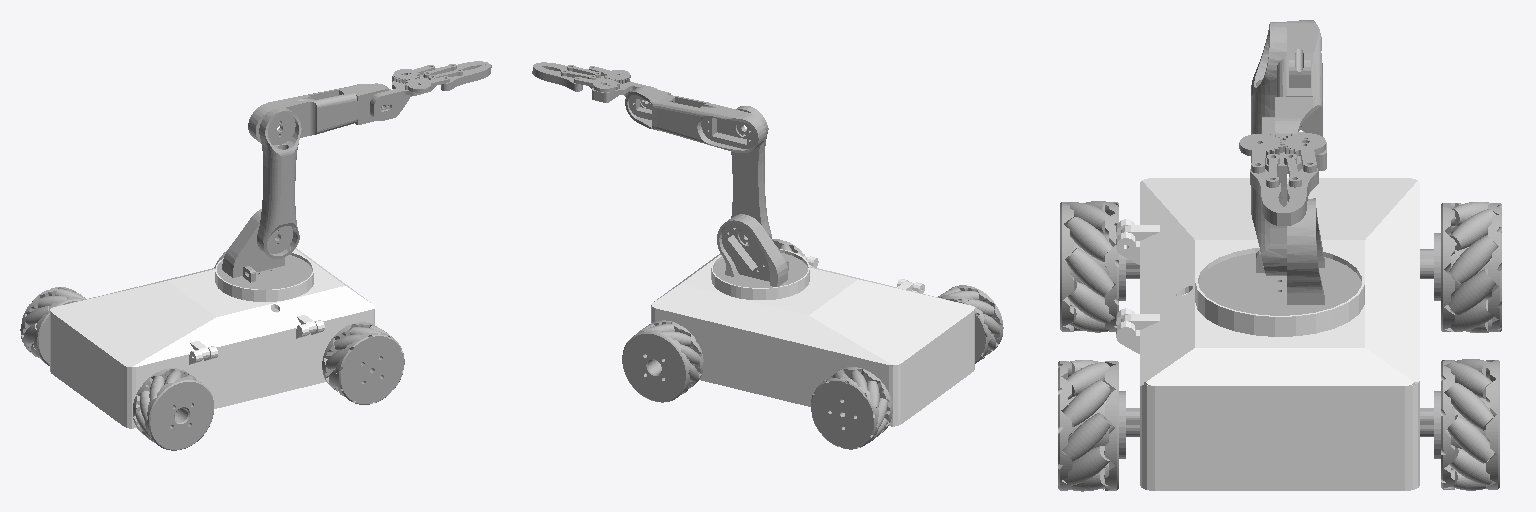
--- What the picture shows (computed from the rendered views, not written in the file) ---
The picture shows the robot from 3 angles, left to right: view 1: azimuth 30°, elevation 25°; view 2: azimuth 150°, elevation 25°; view 3: azimuth 270°, elevation 25°; orthographic projection.
Model car_urdf with 17 links and 16 joints (11 revolute, 4 continuous, 1 fixed), rooted at base_footprint, posed all joints at 0.
Visible links, largest first — view 1: base_link, Shoulder, Rueda_derecha_del_link, Rueda_derecha_tras_link, Waist, Elbow, Rueda_izquierda_tras_link, Wrist_pitch, Wrist_Roll, Right_arm; view 2: base_link, Rueda_izquierda_tras_link, Rueda_izquierda_del_link, Waist, Elbow, Shoulder, Rueda_derecha_tras_link, Wrist_Roll, Left_arm, Wrist_pitch; view 3: base_link, Waist, Rueda_derecha_del_link, Rueda_izquierda_tras_link, Rueda_izquierda_del_link, Rueda_derecha_tras_link, Shoulder, Elbow, Wrist_Roll, Left_gear, Rigth_gear, Left_arm (+2 smaller).
Link boxes in pixels (x1,y1,x2,y2): base_link: [50, 248, 376, 428]; Shoulder: [257, 107, 301, 258]; Rueda_derecha_del_link: [322, 322, 404, 404]; Rueda_derecha_tras_link: [133, 368, 213, 450]; Waist: [217, 209, 312, 289]; Elbow: [248, 87, 357, 142]; Rueda_izquierda_tras_link: [20, 287, 85, 365]; Wrist_pitch: [370, 74, 435, 120]; Wrist_Roll: [347, 83, 390, 124]; Right_arm: [441, 64, 491, 90]; base_link: [651, 249, 974, 426]; Rueda_izquierda_tras_link: [811, 367, 892, 449]; Rueda_izquierda_del_link: [622, 320, 703, 402]; Waist: [713, 214, 807, 287]; Elbow: [657, 95, 765, 152]; Shoulder: [731, 106, 771, 244]; Rueda_derecha_tras_link: [938, 285, 1003, 363]; Wrist_Roll: [625, 86, 670, 130]; Left_arm: [532, 64, 582, 91]; Wrist_pitch: [589, 76, 657, 107]; base_link: [1116, 178, 1419, 490]; Waist: [1198, 198, 1361, 315]; Rueda_derecha_del_link: [1058, 360, 1139, 491]; Rueda_izquierda_tras_link: [1420, 202, 1501, 332]; Rueda_izquierda_del_link: [1420, 359, 1499, 490]; Rueda_derecha_tras_link: [1060, 201, 1139, 332]; Shoulder: [1251, 22, 1286, 275]; Elbow: [1277, 20, 1322, 132]; Wrist_Roll: [1275, 97, 1322, 136]; Left_gear: [1281, 131, 1325, 172]; Rigth_gear: [1239, 132, 1284, 173]; Left_arm: [1284, 168, 1318, 225].
Size in the robot's own frame: 0.4725 by 0.2613 by 0.2836 metres.
Meshes: 16 distinct files referenced, 16 mesh visuals loaded (16 binary STL).

URDF robot description (car_urdf):
<?xml version="1.0" encoding="utf-8"?>
<!-- This URDF was automatically created by SolidWorks to URDF Exporter! Originally created by Stephen Brawner ([email redacted]) 
     Commit Version: 1.5.1-0-g916b5db  Build Version: 1.5.7152.31018
     For more information, please see http://wiki.ros.org/sw_urdf_exporter -->
<robot
  name="car_urdf">
  
  <!-- <link name="world"/>
  <joint name="base_joint" type="fixed">
  	<parent link="world"/>
  	<child link="base_link"/>
  	<origin rpy="0 0 0" xyz="0.0 0.0 0.0"/>
	</joint>-->

  <!-- root link, on the ground just below the model origin -->
  <link name="base_footprint">
   <visual>
      <origin xyz="0 0 0" rpy="0 0 0" />
      <geometry>
        <box size="0.001 0.001 0.001" />
      </geometry>
    </visual>

  </link>
  <joint name="base_link_joint" type="fixed">
    <origin xyz="0.0 0.0 0.0" rpy="0 0 0" />
    <parent link="base_footprint"/>
    <child link="base_link" />
  </joint>

  <link
    name="base_link">
    <inertial>
      <origin
        xyz="0.0022297881096239 -0.000937529913435931 0.0375283758051956"
        rpy="0 0 0" />
      <mass
        value="20" />
      <inertia
        ixx="0.00260667894961256"
        ixy="-2.06641366246688E-01"
        ixz="-4.51471929494189E-01"
        iyy="0.00634991698764481"
        iyz="1.79850575748149E-01"
        izz="0.00843754522990492" />
    </inertial>
    <visual>
      <origin
        xyz="0 0 0"
        rpy="0 0 0" />
      <geometry>
        <mesh
          filename="package://car_urdf/meshes/base_link.STL" />
      </geometry>
      <material
        name="">
        <color
          rgba="1 1 1 1" />
      </material>
    </visual>
    <collision>
      <origin
        xyz="0 0 0"
        rpy="0 0 0" />
      <geometry>
        <mesh
          filename="package://car_urdf/meshes/base_link.STL" />
      </geometry>
    </collision>
  </link>
  <link
    name="Rueda_izquierda_del_link">
    <inertial>
      <origin
        xyz="1.72244410720085E-05 -3.08770137943844E-05 -0.0187646103151318"
        rpy="0 0 0" />
      <mass
        value="5" />
      <inertia
        ixx="2.81559000731179E-01"
        ixy="0"
        ixz="0"
        iyy="2.81431703190276E-01"
        iyz="0"
        izz="4.55341024054628E-01" />
    </inertial>
    <visual>
      <origin
        xyz="0 0 0"
        rpy="0 0 0" />
      <geometry>
        <mesh
          filename="package://car_urdf/meshes/Rueda_izquierda_del_link.STL" />
      </geometry>
      <material
        name="">
        <color
          rgba="0.752941176470588 0.752941176470588 0.752941176470588 1" />
      </material>
    </visual>
    <collision>
      <origin
        xyz="0 0 0"
        rpy="0 0 0" />
      <geometry>
        <mesh
          filename="package://car_urdf/meshes/Rueda_izquierda_del_link.STL" />
      </geometry>
    </collision>
  </link>
  <joint
    name="Rueda_izquierda_del_joint"
    type="continuous">
    <origin
      xyz="0.11005 0.1295 0.026733"
      rpy="-1.5708 0 0" />
    <parent
      link="base_link" />
    <child
      link="Rueda_izquierda_del_link" />
    <axis
      xyz="0 0 1" />
    <limit
      effort="100"
      velocity="100" />
    <joint_properties damping="0.0" friction="0.0"/>
  </joint>
  <link
    name="Rueda_derecha_del_link">
    <inertial>
      <origin
        xyz="-2.01928690935771E-05 -3.56300614159852E-05 0.0187939302958306"
        rpy="0 0 0" />
      <mass
        value="5" />
      <inertia
        ixx="2.82629959834746E-01"
        ixy="0"
        ixz="0"
        iyy="2.82506382127236E-01"
        iyz="0"
        izz="4.55976190910373E-01" />
    </inertial>
    <visual>
      <origin
        xyz="0 0 0"
        rpy="0 0 0" />
      <geometry>
        <mesh
          filename="package://car_urdf/meshes/Rueda_derecha_del_link.STL" />
      </geometry>
      <material
        name="">
        <color
          rgba="0.752941176470588 0.752941176470588 0.752941176470588 1" />
      </material>
    </visual>
    <collision>
      <origin
        xyz="0 0 0"
        rpy="0 0 0" />
      <geometry>
        <mesh
          filename="package://car_urdf/meshes/Rueda_derecha_del_link.STL" />
      </geometry>
    </collision>
  </link>
  <joint
    name="Rueda_derecha_del_joint"
    type="continuous">
    <origin
      xyz="0.1104 -0.13066 0.02641"
      rpy="-1.5708 0 0" />
    <parent
      link="base_link" />
    <child
      link="Rueda_derecha_del_link" />
    <axis
      xyz="0 0 1" />
    <limit
      effort="100"
      velocity="100" />
    <joint_properties damping="0.0" friction="0.0"/>
  </joint>
  <link
    name="Rueda_izquierda_tras_link">
    <inertial>
      <origin
        xyz="-1.16739382335779E-05 -3.9255221370698E-05 -0.0187939302958305"
        rpy="0 0 0" />
      <mass
        value="5" />
      <inertia
        ixx="2.82571265705397E-01"
        ixy="0"
        ixz="0"
        iyy="2.82565076256586E-01"
        iyz="0"
        izz="4.55976190910372E-01" />
    </inertial>
    <visual>
      <origin
        xyz="0 0 0"
        rpy="0 0 0" />
      <geometry>
        <mesh
          filename="package://car_urdf/meshes/Rueda_izquierda_tras_link.STL" />
      </geometry>
      <material
        name="">
        <color
          rgba="0.752941176470588 0.752941176470588 0.752941176470588 1" />
      </material>
    </visual>
    <collision>
      <origin
        xyz="0 0 0"
        rpy="0 0 0" />
      <geometry>
        <mesh
          filename="package://car_urdf/meshes/Rueda_izquierda_tras_link.STL" />
      </geometry>
    </collision>
  </link>
  <joint
    name="Rueda_izquierda_tras_joint"
    type="continuous">
    <origin
      xyz="-0.11021 0.13066 0.026148"
      rpy="-1.5708 0 0" />
    <parent
      link="base_link" />
    <child
      link="Rueda_izquierda_tras_link" />
    <axis
      xyz="0 0 1" />
    <limit
      effort="100"
      velocity="100" />
    <joint_properties damping="0.0" friction="0.0"/>
  </joint>
  <link
    name="Rueda_derecha_tras_link">
    <inertial>
      <origin
        xyz="-1.26738293365902E-05 -3.30067478108674E-05 0.0187646103151317"
        rpy="0 0 0" />
      <mass
        value="5" />
      <inertia
        ixx="2.81556321484253E-01"
        ixy="0"
        ixz="0"
        iyy="2.81434382437204E-01"
        iyz="0"
        izz="4.5534102405463E-01" />
    </inertial>
    <visual>
      <origin
        xyz="0 0 0"
        rpy="0 0 0" />
      <geometry>
        <mesh
          filename="package://car_urdf/meshes/Rueda_derecha_tras_link.STL" />
      </geometry>
      <material
        name="">
        <color
          rgba="0.752941176470588 0.752941176470588 0.752941176470588 1" />
      </material>
    </visual>
    <collision>
      <origin
        xyz="0 0 0"
        rpy="0 0 0" />
      <geometry>
        <mesh
          filename="package://car_urdf/meshes/Rueda_derecha_tras_link.STL" />
      </geometry>
    </collision>
  </link>
  <joint
    name="Rueda_derecha_tras_joint"
    type="continuous">
    <origin
      xyz="-0.11002 -0.1295 0.026739"
      rpy="-1.5708 0 0" />
    <parent
      link="base_link" />
    <child
      link="Rueda_derecha_tras_link" />
    <axis
      xyz="0 0 1" />
    <limit
      effort="100"
      velocity="100" />
    <joint_properties damping="0.0" friction="0.0"/>
  </joint>
  <link
    name="Waist">
    <inertial>
      <origin
        xyz="-0.00643461174884599 0.00137211572604215 0.0172891660034206"
        rpy="0 0 0" />
      <mass
        value="4" />
      <inertia
        ixx="5.81345017333013E-01"
        ixy="0"
        ixz="0"
        iyy="4.50193669493472E-01"
        iyz="0"
        izz="5.46761452959707E-01" />
    </inertial>
    <visual>
      <origin
        xyz="0 0 0"
        rpy="0 0 0" />
      <geometry>
        <mesh
          filename="package://car_urdf/meshes/Waist.STL" />
      </geometry>
      <material
        name="">
        <color
          rgba="0.749019607843137 0.749019607843137 0.749019607843137 1" />
      </material>
    </visual>
    <collision>
      <origin
        xyz="0 0 0"
        rpy="0 0 0" />
      <geometry>
        <mesh
          filename="package://car_urdf/meshes/Waist.STL" />
      </geometry>
    </collision>
  </link>
  <joint
    name="Waist_joint"
    type="revolute">
    <origin
      xyz="0.060849 0 0.08987"
      rpy="0 0 -1.5708" />
    <parent
      link="base_link" />
    <child
      link="Waist" />
    <axis
      xyz="0 0 1" />
    <limit
      lower="-3.1"
      upper="3.1"
      effort="2"
      velocity="2" />
  </joint>
  <link
    name="Shoulder">
    <inertial>
      <origin
        xyz="0.00139575313800894 0.0591884192827652 0.00178931205327423"
        rpy="0 0 0" />
      <mass
        value="4" />
      <inertia
        ixx="0.000106965780568813"
        ixy="0"
        ixz="0"
        iyy="9.15502968245258E-01"
        iyz="0"
        izz="0.000111828463740695" />
    </inertial>
    <visual>
      <origin
        xyz="0 0 0"
        rpy="0 0 0" />
      <geometry>
        <mesh
          filename="package://car_urdf/meshes/Shoulder.STL" />
      </geometry>
      <material
        name="">
        <color
          rgba="0.749019607843137 0.749019607843137 0.749019607843137 1" />
      </material>
    </visual>
    <collision>
      <origin
        xyz="0 0 0"
        rpy="0 0 0" />
      <geometry>
        <mesh
          filename="package://car_urdf/meshes/Shoulder.STL" />
      </geometry>
    </collision>
  </link>
  <joint
    name="Shoulder_joint"
    type="revolute">
    <origin
      xyz="0.002 0.013919 0.040276"
      rpy="1.5708 0 1.5708" />
    <parent
      link="Waist" />
    <child
      link="Shoulder" />
    <axis
      xyz="0 0 1" />
    <limit
      lower="-1.6"
      upper="1.8"
      effort="2"
      velocity="2" />
  </joint>
  <link
    name="Elbow">
    <inertial>
      <origin
        xyz="0.0392853132336417 -2.78813481829343E-05 0.00540885828941906"
        rpy="0 0 0" />
      <mass
        value="2" />
      <inertia
        ixx="9.28666202376571E-01"
        ixy="0"
        ixz="0"
        iyy="5.46008100377437E-01"
        iyz="0"
        izz="5.81488341772465E-01" />
    </inertial>
    <visual>
      <origin
        xyz="0 0 0"
        rpy="0 0 0" />
      <geometry>
        <mesh
          filename="package://car_urdf/meshes/Elbow.STL" />
      </geometry>
      <material
        name="">
        <color
          rgba="0.749019607843137 0.749019607843137 0.749019607843137 1" />
      </material>
    </visual>
    <collision>
      <origin
        xyz="0 0 0"
        rpy="0 0 0" />
      <geometry>
        <mesh
          filename="package://car_urdf/meshes/Elbow.STL" />
      </geometry>
    </collision>
  </link>
  <joint
    name="Elbow_joint"
    type="revolute">
    <origin
      xyz="0.0028289 0.11997 -0.008"
      rpy="3.1416 0 0" />
    <parent
      link="Shoulder" />
    <child
      link="Elbow" />
    <axis
      xyz="0 0 1" />
    <limit
      lower="-3.8"
      upper="0.9"
      effort="2"
      velocity="2" />
  </joint>
  <link
    name="Wrist_Roll">
    <inertial>
      <origin
        xyz="0.00497214222074152 0.00533442843610391 0.0178414446624296"
        rpy="0 0 0" />
      <mass
        value="2" />
      <inertia
        ixx="3.91251960534152E-01"
        ixy="0"
        ixz="0"
        iyy="5.02240887777995E-01"
        iyz="0"
        izz="2.6123880151547E-01" />
    </inertial>
    <visual>
      <origin
        xyz="0 0 0"
        rpy="0 0 0" />
      <geometry>
        <mesh
          filename="package://car_urdf/meshes/Wrist_Roll.STL" />
      </geometry>
      <material
        name="">
        <color
          rgba="0.749019607843137 0.749019607843137 0.749019607843137 1" />
      </material>
    </visual>
    <collision>
      <origin
        xyz="0 0 0"
        rpy="0 0 0" />
      <geometry>
        <mesh
          filename="package://car_urdf/meshes/Wrist_Roll.STL" />
      </geometry>
    </collision>
  </link>
  <joint
    name="Wrist_Roll_joint"
    type="revolute">
    <origin
      xyz="0.08975 0.0053 0.0055"
      rpy="-1.5708 0 -1.5708" />
    <parent
      link="Elbow" />
    <child
      link="Wrist_Roll" />
    <axis
      xyz="0 0 1" />
    <limit
      lower="-3.1"
      upper="3.1"
      effort="2"
      velocity="2" />
  </joint>
  <link
    name="Wrist_pitch">
    <inertial>
      <origin
        xyz="0.00584372490457619 0.0235511325024931 0.00189540333933991"
        rpy="0 0 0" />
      <mass
        value="1" />
      <inertia
        ixx="8.10583599818438E-01"
        ixy="0"
        ixz="0"
        iyy="2.56045828198375E-01"
        iyz="0"
        izz="7.25737022876247E-01" />
    </inertial>
    <visual>
      <origin
        xyz="0 0 0"
        rpy="0 0 0" />
      <geometry>
        <mesh
          filename="package://car_urdf/meshes/Wrist_pitch.STL" />
      </geometry>
      <material
        name="">
        <color
          rgba="0.749019607843137 0.749019607843137 0.749019607843137 1" />
      </material>
    </visual>
    <collision>
      <origin
        xyz="0 0 0"
        rpy="0 0 0" />
      <geometry>
        <mesh
          filename="package://car_urdf/meshes/Wrist_pitch.STL" />
      </geometry>
    </collision>
  </link>
  <joint
    name="Wrist_pitch_joint"
    type="revolute">
    <origin
      xyz="0.0048045 0.014068 0.028"
      rpy="1.5708 0 0" />
    <parent
      link="Wrist_Roll" />
    <child
      link="Wrist_pitch" />
    <axis
      xyz="0 0 1" />
    <limit
      lower="-2.7"
      upper="1.5"
      effort="2"
      velocity="2" />
  </joint>
  <link
    name="Left_gear">
    <inertial>
      <origin
        xyz="9.84573017270562E-05 0.00569626374754378 -0.00200156536681623"
        rpy="0 0 0" />
      <mass
        value="0.4" />
      <inertia
        ixx="3.59754543872306E-01"
        ixy="0"
        ixz="0"
        iyy="9.32670641947356E-01"
        iyz="0"
        izz="4.4614578747537E-01" />
    </inertial>
    <visual>
      <origin
        xyz="0 0 0"
        rpy="0 0 0" />
      <geometry>
        <mesh
          filename="package://car_urdf/meshes/Left_gear.STL" />
      </geometry>
      <material
        name="">
        <color
          rgba="0.749019607843137 0.749019607843137 0.749019607843137 1" />
      </material>
    </visual>
    <collision>
      <origin
        xyz="0 0 0"
        rpy="0 0 0" />
      <geometry>
        <mesh
          filename="package://car_urdf/meshes/Left_gear.STL" />
      </geometry>
    </collision>
  </link>
  <joint
    name="Left_gear_joint"
    type="revolute">
    <origin
      xyz="0.018248 0.038 0.017648"
      rpy="0 1.5708 0" />
    <parent
      link="Wrist_pitch" />
    <child
      link="Left_gear" />
    <axis
      xyz="0 0 1" />
    <limit
      lower="0.0"
      upper="1.7"
      effort="0.1"
      velocity="1" />
  </joint>
  <link
    name="Left_arm">
    <inertial>
      <origin
        xyz="0.00630542048779029 0.0264992665789138 -0.00833860452056118"
        rpy="0 0 0" />
      <mass
        value="0.5" />
      <inertia
        ixx="1.64746746495668E-01"
        ixy="0"
        ixz="0"
        iyy="1.31449992734637E-01"
        iyz="0"
        izz="1.71389793077299E-01" />
    </inertial>
    <visual>
      <origin
        xyz="0 0 0"
        rpy="0 0 0" />
      <geometry>
        <mesh
          filename="package://car_urdf/meshes/Left_arm.STL" />
      </geometry>
      <material
        name="">
        <color
          rgba="0.749019607843137 0.749019607843137 0.749019607843137 1" />
      </material>
    </visual>
    <collision>
      <origin
        xyz="0 0 0"
        rpy="0 0 0" />
      <geometry>
        <mesh
          filename="package://car_urdf/meshes/Left_arm.STL" />
      </geometry>
    </collision>
  </link>
  <joint
    name="Left_arm_joint"
    type="revolute">
    <origin
      xyz="-0.0025844 0.030641 3.5997E-05"
      rpy="0 0 0" />
    <parent
      link="Left_gear" />
    <child
      link="Left_arm" />
    <axis
      xyz="0 0 1" />
    <limit
      lower="-1.7"
      upper="0.0"
      effort="0.1"
      velocity="1" />
      <!--<mimic
      joint="Left_gear_joint"
      multiplier="-1"
      offset="0" />-->
  </joint>
  <link
    name="Rigth_gear">
    <inertial>
      <origin
        xyz="-0.000446050700060208 0.00559552490810192 -0.0019939810406126"
        rpy="0 0 0" />
      <mass
        value="0.4" />
      <inertia
        ixx="3.63349411456806E-01"
        ixy="0"
        ixz="0"
        iyy="9.0950833728359E-01"
        iyz="0"
        izz="4.4722339189378E-01" />
    </inertial>
    <visual>
      <origin
        xyz="0 0 0"
        rpy="0 0 0" />
      <geometry>
        <mesh
          filename="package://car_urdf/meshes/Rigth_gear.STL" />
      </geometry>
      <material
        name="">
        <color
          rgba="0.749019607843137 0.749019607843137 0.749019607843137 1" />
      </material>
    </visual>
    <collision>
      <origin
        xyz="0 0 0"
        rpy="0 0 0" />
      <geometry>
        <mesh
          filename="package://car_urdf/meshes/Rigth_gear.STL" />
      </geometry>
    </collision>
  </link>
  <joint
    name="Rigth_gear_joint"
    type="revolute">
    <origin
      xyz="0.0178729072833145 0.0379999959318534 -0.00924982705729846"
      rpy="0 1.5707963267949 0" />
    <parent
      link="Wrist_pitch" />
    <child
      link="Rigth_gear" />
    <axis
      xyz="0.0139274180837466 0 0.999903008809115" />
    <limit
      lower="-1.7"
      upper="0.0"
      effort="0.1"
      velocity="1" />
    <!--<mimic
      joint="Left_gear_joint"
      multiplier="-1"
      offset="0" />-->
  </joint>
  <link
    name="Right_arm">
    <inertial>
      <origin
        xyz="-0.00642854067390169 0.0265248882577793 -0.00816128121125931"
        rpy="0 0 0" />
      <mass
        value="0.7" />
      <inertia
        ixx="1.64746746495668E-01"
        ixy="0"
        ixz="0"
        iyy="1.31449992734637E-01"
        iyz="0"
        izz="1.71389793077299E-01" />
    </inertial>
    <visual>
      <origin
        xyz="0 0 0"
        rpy="0 0 0" />
      <geometry>
        <mesh
          filename="package://car_urdf/meshes/Right_arm.STL" />
      </geometry>
      <material
        name="">
        <color
          rgba="0.749019607843137 0.749019607843137 0.749019607843137 1" />
      </material>
    </visual>
    <collision>
      <origin
        xyz="0 0 0"
        rpy="0 0 0" />
      <geometry>
        <mesh
          filename="package://car_urdf/meshes/Right_arm.STL" />
      </geometry>
    </collision>
  </link>
  <joint
    name="Right_arm_joint"
    type="revolute">
    <origin
      xyz="0.0010108 0.030733 -1.408E-05"
      rpy="0 0 0" />
    <parent
      link="Rigth_gear" />
    <child
      link="Right_arm" />
    <axis
      xyz="0 0 1" />
    <limit
      lower="0.0"
      upper="1.7"
      effort="0.1"
      velocity="1" />
    <!--<mimic
      joint="Left_gear_joint"
      multiplier="1"
      offset="0" />-->
  </joint>
  <link
    name="Left_Link">
    <inertial>
      <origin
        xyz="-0.00144581741485969 0.015434991461444 -0.00198005552093664"
        rpy="0 0 0" />
      <mass
        value="0.2" />
      <inertia
        ixx="1.02091108447245E-01"
        ixy="0"
        ixz="0"
        iyy="4.46360296367216E-01"
        iyz="0"
        izz="1.04423773010116E-01" />
    </inertial>
    <visual>
      <origin
        xyz="0 0 0"
        rpy="0 0 0" />
      <geometry>
        <mesh
          filename="package://car_urdf/meshes/Left_Link.STL" />
      </geometry>
      <material
        name="">
        <color
          rgba="0.749019607843137 0.749019607843137 0.749019607843137 1" />
      </material>
    </visual>
    <collision>
      <origin
        xyz="0 0 0"
        rpy="0 0 0" />
      <geometry>
        <mesh
          filename="package://car_urdf/meshes/Left_Link.STL" />
      </geometry>
    </collision>
  </link>
  <joint
    name="Left_Link_joint"
    type="revolute">
    <origin
      xyz="0.018124 0.058 0.0087484"
      rpy="0 1.5708 0" />
    <parent
      link="Wrist_pitch" />
    <child
      link="Left_Link" />
    <axis
      xyz="0 0 1" />
    <limit
      lower="0.0"
      upper="1.7"
      effort="0.1"
      velocity="1" />
    <!--<mimic
      joint="Left_gear_joint"
      multiplier="1"
      offset="0" />-->
  </joint>
  <link
    name="Rigth_Link">
    <inertial>
      <origin
        xyz="0.000194111140012471 0.0154984092987498 -0.00200289770703868"
        rpy="0 0 0" />
      <mass
        value="0.4" />
      <inertia
        ixx="1.0290168438821E-01"
        ixy="0"
        ixz="0"
        iyy="3.65286976237582E-01"
        iyz="0"
        izz="1.04423930270447E-01" />
    </inertial>
    <visual>
      <origin
        xyz="0 0 0"
        rpy="0 0 0" />
      <geometry>
        <mesh
          filename="package://car_urdf/meshes/Rigth_Link.STL" />
      </geometry>
      <material
        name="">
        <color
          rgba="0.749019607843137 0.749019607843137 0.749019607843137 1" />
      </material>
    </visual>
    <collision>
      <origin
        xyz="0 0 0"
        rpy="0 0 0" />
      <geometry>
        <mesh
          filename="package://car_urdf/meshes/Rigth_Link.STL" />
      </geometry>
    </collision>
  </link>
  <joint
    name="Rigth_Link_joint"
    type="revolute">
    <origin
      xyz="0.017984 0.058 -0.0012506"
      rpy="0 1.5708 0" />
    <parent
      link="Wrist_pitch" />
    <child
      link="Rigth_Link" />
    <axis
      xyz="0 0 1" />
    <limit
      lower="-1.7"
      upper="0.0"
      effort="0.1"
      velocity="1" />
    <!--<mimic
      joint="Left_gear_joint"
      multiplier="-1"
      offset="0" />-->
  </joint>

  <transmission name="Rueda_izquierda_del_link_trans">
	<type>transmission_interface/SimpleTransmission</type>
	<joint name="Rueda_izquierda_del_joint">
	  <hardwareInterface>hardware_interface/VelocityJointInterface</hardwareInterface>
	</joint>
	<actuator name="Rueda_izquierda_del_link_motor">
	  <hardwareInterface>hardware_interface/VelocityJointInterface</hardwareInterface>
	  <mechanicalReduction>1</mechanicalReduction>
	</actuator>
  </transmission>

  <transmission name="Rueda_derecha_del_link_trans">
	<type>transmission_interface/SimpleTransmission</type>
	  <joint name="Rueda_derecha_del_joint">
	<hardwareInterface>hardware_interface/VelocityJointInterface</hardwareInterface>
	</joint>
	<actuator name="Rueda_derecha_del_link_motor">
	  <hardwareInterface>hardware_interface/VelocityJointInterface</hardwareInterface>
	  <mechanicalReduction>1</mechanicalReduction>
	</actuator>
  </transmission>

  <transmission name="Rueda_izquierda_tras_link_trans">
	<type>transmission_interface/SimpleTransmission</type>
	<joint name="Rueda_izquierda_tras_joint">
	  <hardwareInterface>hardware_interface/VelocityJointInterface</hardwareInterface>
	</joint>
	<actuator name="Rueda_izquierda_tras_link_motor">
	  <hardwareInterface>hardware_interface/VelocityJointInterface</hardwareInterface>
	  <mechanicalReduction>1</mechanicalReduction>
	</actuator>
  </transmission>

  <transmission name="Rueda_derecha_tras_link_trans">
	<type>transmission_interface/SimpleTransmission</type>
	<joint name="Rueda_derecha_tras_joint">
	  <hardwareInterface>hardware_interface/VelocityJointInterface</hardwareInterface>
	</joint>
	<actuator name="Rueda_derecha_tras_link_motor">
	  <hardwareInterface>hardware_interface/VelocityJointInterface</hardwareInterface>
	  <mechanicalReduction>1</mechanicalReduction>
	</actuator>
  </transmission>

  <transmission name="Waist_trans">
	<type>transmission_interface/SimpleTransmission</type>
	<joint name="Waist_joint">
	<hardwareInterface>hardware_interface/PositionJointInterface</hardwareInterface>
	</joint>
	<actuator name="Waist_motor">
	<hardwareInterface>hardware_interface/PositionJointInterface</hardwareInterface>
		<mechanicalReduction>1</mechanicalReduction>
	</actuator>
  </transmission>

  <transmission name="Shoulder_trans">
	<type>transmission_interface/SimpleTransmission</type>
	<joint name="Shoulder_joint">
	<hardwareInterface>hardware_interface/PositionJointInterface</hardwareInterface>
	</joint>
	<actuator name="Shoulder_motor">
	<hardwareInterface>hardware_interface/PositionJointInterface</hardwareInterface>
		<mechanicalReduction>1</mechanicalReduction>
	</actuator>
  </transmission>

  <transmission name="Elbow_trans">
	<type>transmission_interface/SimpleTransmission</type>
	<joint name="Elbow_joint">
	<hardwareInterface>hardware_interface/PositionJointInterface</hardwareInterface>
	</joint>
	<actuator name="Elbow_motor">
	<hardwareInterface>hardware_interface/PositionJointInterface</hardwareInterface>
		<mechanicalReduction>1</mechanicalReduction>
	</actuator>
  </transmission>

  <transmission name="Wrist_Roll_trans">
	<type>transmission_interface/SimpleTransmission</type>
	<joint name="Wrist_Roll_joint">
	<hardwareInterface>hardware_interface/PositionJointInterface</hardwareInterface>
	</joint>
	<actuator name="Wrist_Roll_motor">
	<hardwareInterface>hardware_interface/PositionJointInterface</hardwareInterface>
		<mechanicalReduction>1</mechanicalReduction>
	</actuator>
  </transmission>

  <transmission name="Wrist_pitch_trans">
	<type>transmission_interface/SimpleTransmission</type>
	<joint name="Wrist_pitch_joint">
	<hardwareInterface>hardware_interface/PositionJointInterface</hardwareInterface>
	</joint>
	<actuator name="Wrist_pitch_motor">
	<hardwareInterface>hardware_interface/PositionJointInterface</hardwareInterface>
		<mechanicalReduction>1</mechanicalReduction>
	</actuator>
  </transmission>

  <transmission name="Left_gear_trans">
	<type>transmission_interface/SimpleTransmission</type>
	<joint name="Left_gear_joint">
	<hardwareInterface>hardware_interface/PositionJointInterface</hardwareInterface>
	</joint>
	<actuator name="Left_gear_motor">
	<hardwareInterface>hardware_interface/PositionJointInterface</hardwareInterface>
		<mechanicalReduction>1</mechanicalReduction>
	</actuator>
  </transmission>

  <transmission name="Left_arm_trans">
	<type>transmission_interface/SimpleTransmission</type>
	<joint name="Left_arm_joint">
	<hardwareInterface>hardware_interface/PositionJointInterface</hardwareInterface>
	</joint>
	<actuator name="Left_arm_motor">
	<hardwareInterface>hardware_interface/PositionJointInterface</hardwareInterface>
		<mechanicalReduction>1</mechanicalReduction>
	</actuator>
  </transmission>

  <transmission name="Rigth_gear_trans">
	<type>transmission_interface/SimpleTransmission</type>
	<joint name="Rigth_gear_joint">
	<hardwareInterface>hardware_interface/PositionJointInterface</hardwareInterface>
	</joint>
	<actuator name="Rigth_gear_motor">
	<hardwareInterface>hardware_interface/PositionJointInterface</hardwareInterface>
		<mechanicalReduction>1</mechanicalReduction>
	</actuator>
  </transmission>

  <transmission name="Right_arm_trans">
	<type>transmission_interface/SimpleTransmission</type>
	<joint name="Right_arm_joint">
	<hardwareInterface>hardware_interface/PositionJointInterface</hardwareInterface>
	</joint>
	<actuator name="Right_arm_motor">
		<hardwareInterface>hardware_interface/PositionJointInterface</hardwareInterface>
		<mechanicalReduction>1</mechanicalReduction>
	</actuator>
  </transmission>

  <transmission name="Left_Link_trans">
	<type>transmission_interface/SimpleTransmission</type>
	<joint name="Left_Link_joint">
	<hardwareInterface>hardware_interface/PositionJointInterface</hardwareInterface>
	</joint>
	<actuator name="Left_Link_motor">
	<hardwareInterface>hardware_interface/PositionJointInterface</hardwareInterface>
		<mechanicalReduction>1</mechanicalReduction>
	</actuator>
  </transmission>

  <transmission name="Rigth_Link_trans">
	<type>transmission_interface/SimpleTransmission</type>
	<joint name="Rigth_Link_joint">
	<hardwareInterface>hardware_interface/PositionJointInterface</hardwareInterface>
	</joint>
	<actuator name="Rigth_Link_motor">
	<hardwareInterface>hardware_interface/PositionJointInterface</hardwareInterface>
		<mechanicalReduction>1</mechanicalReduction>
	</actuator>
  </transmission>

  <gazebo>
	<plugin name="control" filename="libgazebo_ros_control.so">
		<robotNamespace>/</robotNamespace>
	</plugin>
  </gazebo>

  <!--<gazebo>
    <plugin name="gazebo_mimic_joint_plugin_1" filename="libroboticsgroup_gazebo_mimic_joint_plugin.so">
      <joint>Left_gear_joint</joint>
      <mimicJoint>Left_arm_joint</mimicJoint>
      <multiplier>-1.0</multiplier>
      <offset>0.0</offset> 
      <sensitiveness>0.0</sensitiveness>
      <maxEffort>500</maxEffort>
      <robotNamespace>/ur5</robotNamespace>
    </plugin>
    <plugin name="gazebo_mimic_joint_plugin_2" filename="libroboticsgroup_gazebo_mimic_joint_plugin.so">
      <joint>Left_gear_joint</joint>
      <mimicJoint>Rigth_gear_joint</mimicJoint>
      <multiplier>-1.0</multiplier>
      <offset>0.0</offset> 
      <sensitiveness>0.0</sensitiveness>
      <maxEffort>500</maxEffort>
      <robotNamespace>/ur5</robotNamespace>
    </plugin>
    <plugin name="gazebo_mimic_joint_plugin_3" filename="libroboticsgroup_gazebo_mimic_joint_plugin.so">
      <joint>Left_gear_joint</joint>
      <mimicJoint>Right_arm_joint</mimicJoint>
      <multiplier>1.0</multiplier>
      <offset>0.0</offset>
      <sensitiveness>0.0</sensitiveness>
      <maxEffort>500</maxEffort>
      <robotNamespace>/ur5</robotNamespace>
    </plugin>
    <plugin name="gazebo_mimic_joint_plugin_4" filename="libroboticsgroup_gazebo_mimic_joint_plugin.so">
      <joint>Left_gear_joint</joint>
      <mimicJoint>Left_Link_joint</mimicJoint>
      <multiplier>1.0</multiplier>
      <offset>0.0</offset>
      <sensitiveness>0.0</sensitiveness>
      <maxEffort>500</maxEffort>
      <robotNamespace>/ur5</robotNamespace>
    </plugin>
    <plugin name="gazebo_mimic_joint_plugin_5" filename="libroboticsgroup_gazebo_mimic_joint_plugin.so">
      <joint>Left_gear_joint</joint>
      <mimicJoint>Rigth_Link_joint</mimicJoint>
      <multiplier>-1.0</multiplier>
      <offset>0.0</offset>
      <sensitiveness>0.0</sensitiveness>
      <maxEffort>500</maxEffort>
      <robotNamespace>/ur5</robotNamespace>
    </plugin>
  </gazebo>-->

  <gazebo>
    <plugin name="gazebo_grasp_fix" filename="libgazebo_grasp_fix.so">
      <arm>
        <arm_name>gripper</arm_name>
        <palm_link>Wrist_pitch</palm_link>
        <gripper_link>Left_gear</gripper_link>
        <gripper_link>Rigth_gear</gripper_link>
        <gripper_link>Left_arm</gripper_link>
        <gripper_link>Right_arm</gripper_link>
        <gripper_link>Left_Link</gripper_link>
        <gripper_link>Rigth_Link</gripper_link>
      </arm>
      <forces_angle_tolerance>80</forces_angle_tolerance>
      <update_rate>4</update_rate>
      <grip_count_threshold>4</grip_count_threshold>
      <max_grip_count>8</max_grip_count>
      <release_tolerance>0.005</release_tolerance>
      <disable_collisions_on_attach>false</disable_collisions_on_attach>
      <contact_topic>__default_topic__</contact_topic>
    </plugin>
  </gazebo>

  <gazebo>
  	<plugin name="omni_steering" filename="libgazebo_ros_planar_move.so">
	  <commandTopic>cmd_vel</commandTopic>
	  <odometryTopic>odom</odometryTopic>
      <odometryFrame>odom</odometryFrame>  	
	  <odometryRate>50.0</odometryRate>
	  <robotBaseFrame>base_link</robotBaseFrame> 
  	  <publishTF>false</publishTF>
  	</plugin>
  </gazebo>

  <gazebo reference="Rueda_izquierda_del_link">
	<selfCollide>true</selfCollide>
 	<material>Gazebo/White</material>
	<mu1>1.0</mu1>
	<mu2>1.0</mu2>  	
	<kp>1000000.0</kp>
	<kd>100.0</kd>
	<minDepth>0.00</minDepth>
  </gazebo>

  <gazebo reference="Rueda_derecha_del_link">
	<selfCollide>true</selfCollide>
  	<material>Gazebo/Blue</material>
  	<mu1>1.0</mu1>
	<mu2>1.0</mu2>  	
	<kp>1000000.0</kp>
	<kd>100.0</kd>
	<minDepth>0.00</minDepth>
  </gazebo>

  <gazebo reference="Rueda_izquierda_tras_link">
  	<material>Gazebo/Blue</material>
  	<mu1>1.0</mu1>
	<mu2>1.0</mu2>  	
	<kp>1000000.0</kp>
	<kd>100.0</kd>
	<minDepth>0.00</minDepth>
  </gazebo>

  <gazebo reference="Rueda_derecha_tras_link">
  	<material>Gazebo/White</material>
  	<mu1>1.0</mu1>
	<mu2>1.0</mu2>  	
	<kp>1000000.0</kp>
	<kd>100.0</kd>
	<minDepth>0.00</minDepth>
  </gazebo>

  <gazebo reference="Waist">
    <material>Gazebo/Blue</material>
    <turnGravityOff>true</turnGravityOff>
  </gazebo>

  <gazebo reference="Shoulder">
    <material>Gazebo/Blue</material>
    <turnGravityOff>true</turnGravityOff>
  </gazebo>

  <gazebo reference="Elbow">
    <material>Gazebo/Blue</material>
    <turnGravityOff>true</turnGravityOff>
  </gazebo>

  <gazebo reference="Wrist_Roll">
    <material>Gazebo/Blue</material>
    <turnGravityOff>false</turnGravityOff>
  </gazebo>

  <gazebo reference="Wrist_pitch">
    <material>Gazebo/Blue</material>
    <turnGravityOff>false</turnGravityOff>
  </gazebo>

  <gazebo reference="Left_gear">
    <material>Gazebo/White</material>
    <turnGravityOff>false</turnGravityOff>
  </gazebo>

  <gazebo reference="Left_arm">
    <material>Gazebo/White</material>
    <turnGravityOff>false</turnGravityOff>
  </gazebo>

  <gazebo reference="Rigth_gear">
    <material>Gazebo/White</material>
    <turnGravityOff>false</turnGravityOff>
  </gazebo>

  <gazebo reference="Right_arm">
    <material>Gazebo/White</material>
    <turnGravityOff>false</turnGravityOff>
  </gazebo>

  <gazebo reference="Left_link">
    <material>Gazebo/White</material>
    <turnGravityOff>false</turnGravityOff>
  </gazebo>

  <gazebo reference="Rigth_link">
    <material>Gazebo/White</material>
    <turnGravityOff>false</turnGravityOff>
  </gazebo>

</robot>
